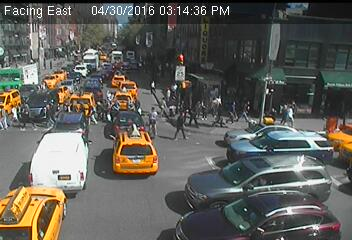neg: (311, 112, 342, 154), (11, 148, 37, 183), (298, 74, 323, 107), (64, 155, 86, 185), (110, 115, 132, 144), (294, 34, 316, 63), (250, 69, 268, 93), (7, 63, 24, 86), (240, 36, 256, 58), (104, 21, 119, 41), (35, 51, 47, 68), (151, 29, 163, 46), (123, 75, 135, 91), (133, 27, 145, 43), (40, 56, 51, 71), (92, 73, 103, 87), (61, 28, 70, 41), (20, 30, 29, 43)
pos: (140, 105, 165, 139), (172, 110, 195, 141), (14, 102, 36, 132), (211, 103, 231, 129), (82, 102, 100, 127), (283, 105, 301, 129), (226, 100, 243, 123), (238, 102, 254, 124), (145, 78, 159, 96)
